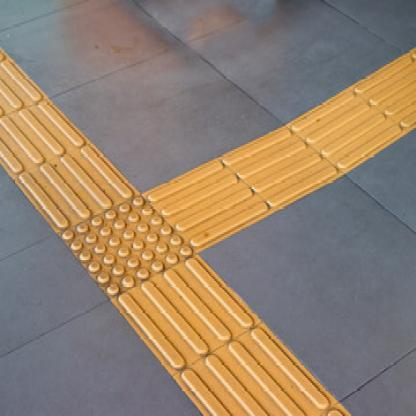podotacti: (1, 12, 416, 416)
